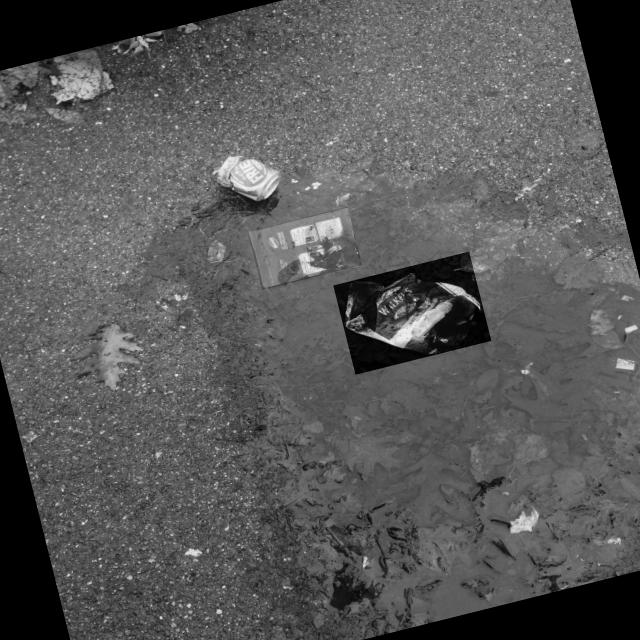Crisp packet: (343, 271, 485, 355), (248, 208, 359, 289)
Drink can: (217, 154, 280, 200)
